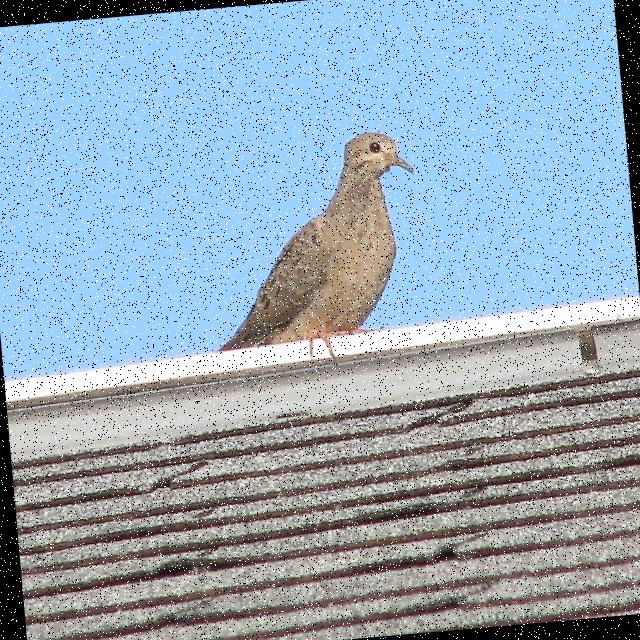bird: (196, 128, 430, 370)
